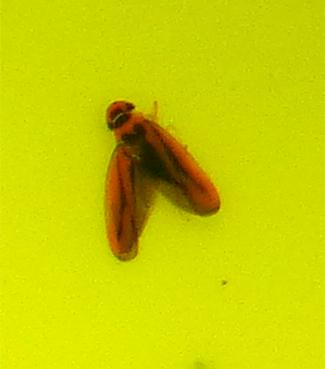Hemiptera: (100, 100, 225, 269)
